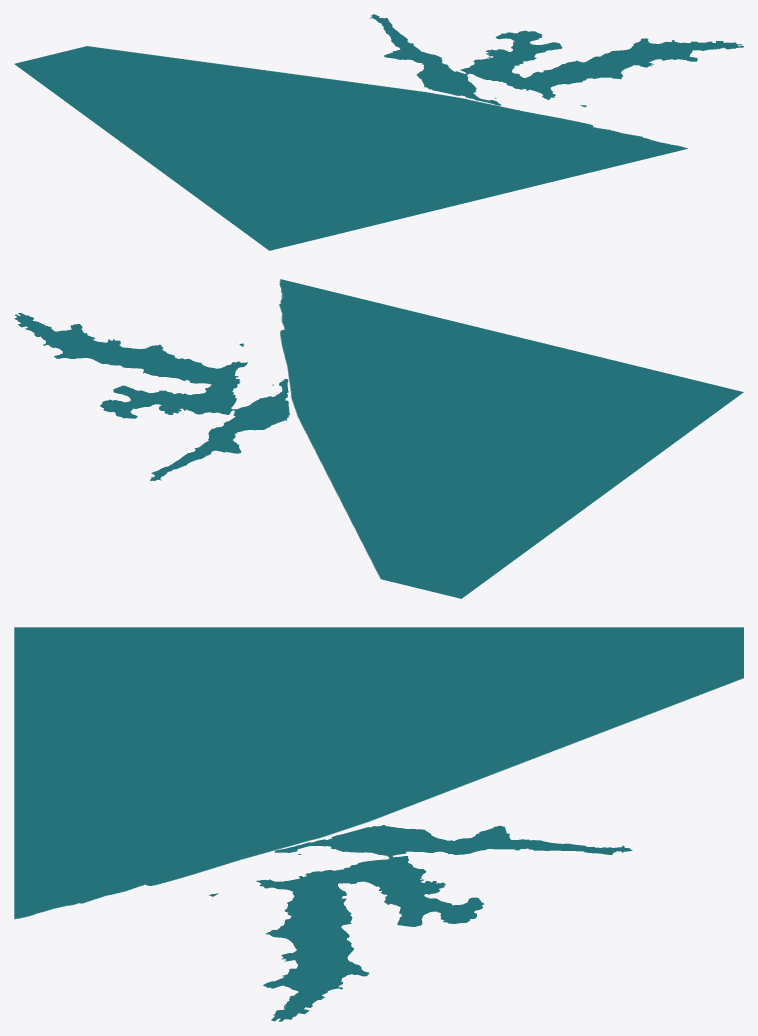
Rendered from Course_Water.glb.
3 renders of one model, top to bottom at view 1: azimuth 30°, elevation 25°; view 2: azimuth 150°, elevation 25°; view 3: azimuth 270°, elevation 25°, orthographic. The views are drawn at different scales.
Parts seen in each view (by area): view 1: Course_Water_Course_IndianOcean; view 2: Course_Water_Course_IndianOcean; view 3: Course_Water_Course_IndianOcean.
Boxes of the visible parts, x1,y1,x2,y2 form: Course_Water_Course_IndianOcean: [14, 14, 743, 250]; Course_Water_Course_IndianOcean: [14, 279, 743, 598]; Course_Water_Course_IndianOcean: [14, 627, 743, 1021].
Size of the model in its own units: 9777 by 0.195 by 7645.
